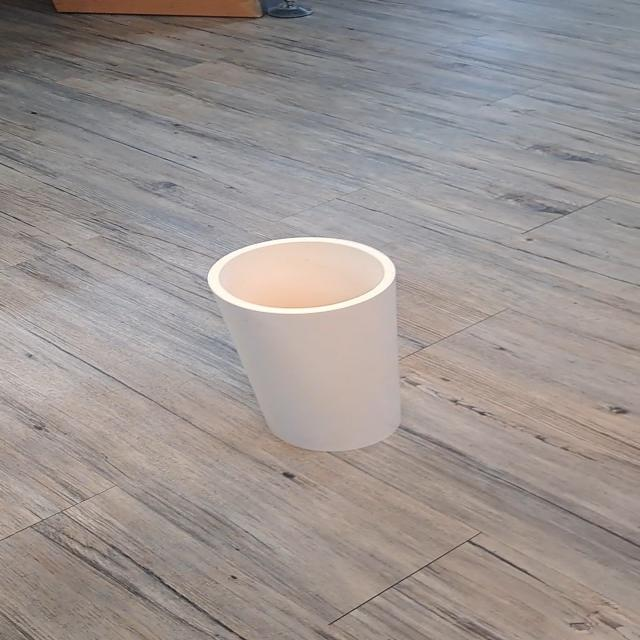CORAL: (170, 225, 462, 481)
